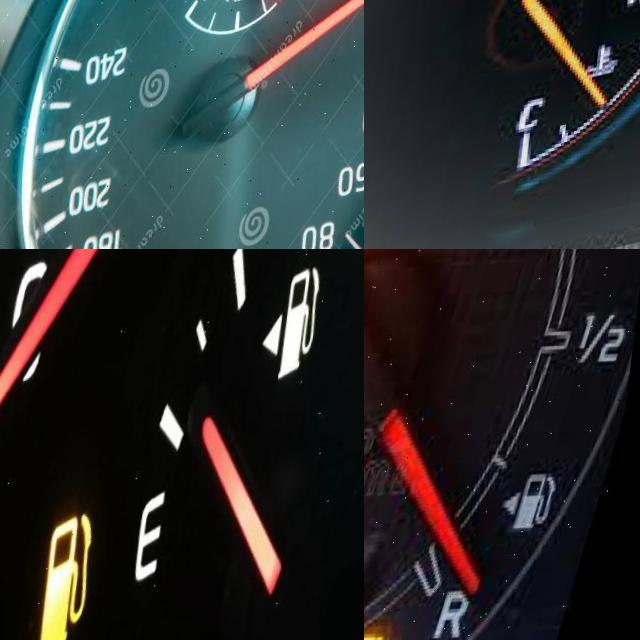High Engine Coolant Temperature: (595, 55, 629, 97)
